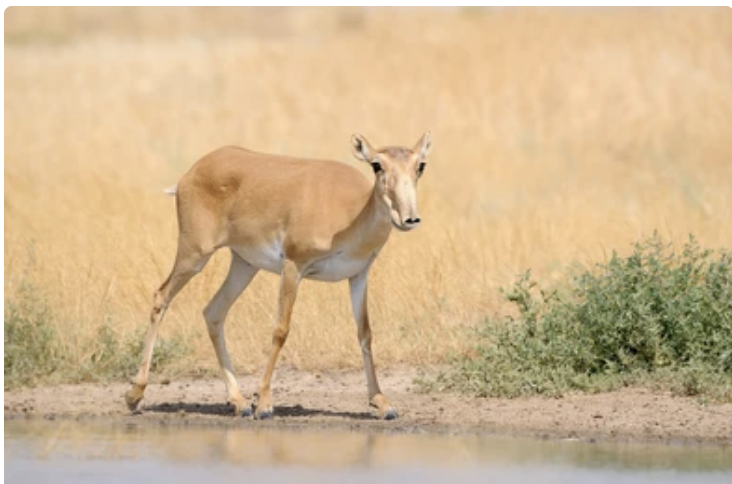saiga: (128, 129, 433, 414)
